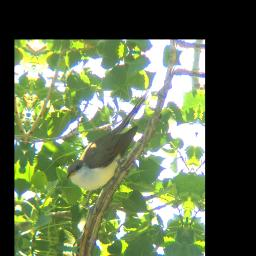Cuckoo: (65, 78, 151, 197)
